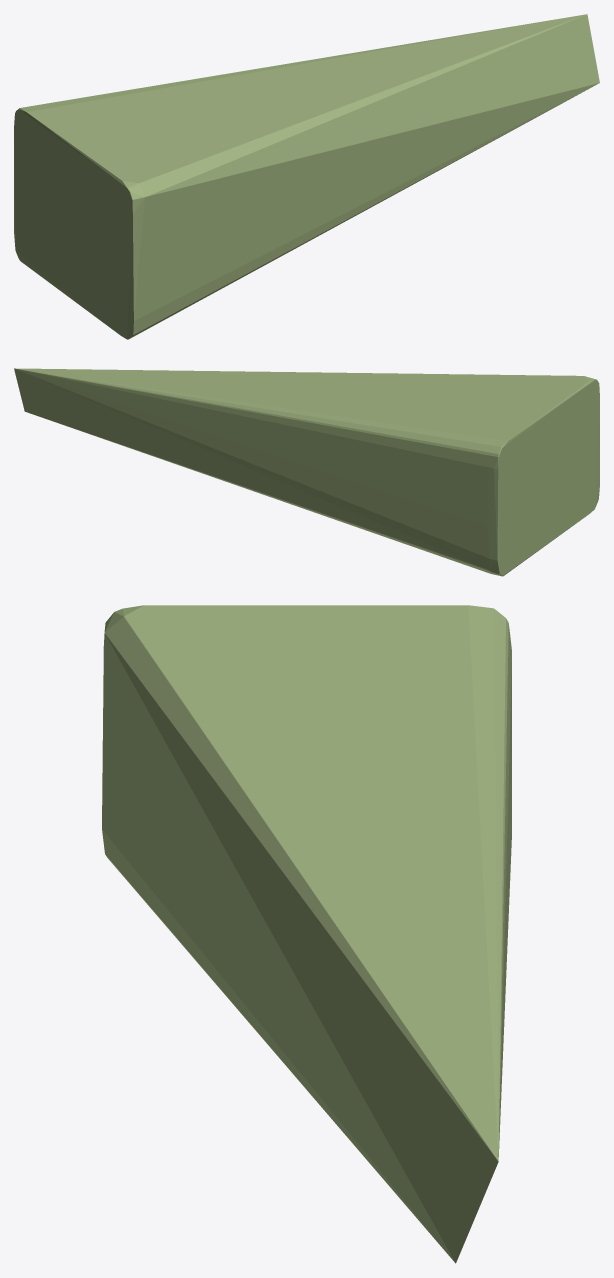
File: structure_beam_wallMount_b01.glb
3 views of the same model, one above another, from view 1: azimuth 30°, elevation 25°; view 2: azimuth 150°, elevation 25°; view 3: azimuth 270°, elevation 25° (orthographic). The views are drawn at different scales.
Parts seen in each view (by area): view 1: geometry_0; view 2: geometry_0; view 3: geometry_0.
Boxes of the visible parts, box(x1,y1,x2,y2) form: geometry_0: box(14, 14, 599, 339); geometry_0: box(14, 368, 599, 576); geometry_0: box(102, 605, 511, 1263).
Bounding box in the file's own units: 0.48 × 0.1253 × 0.175.
